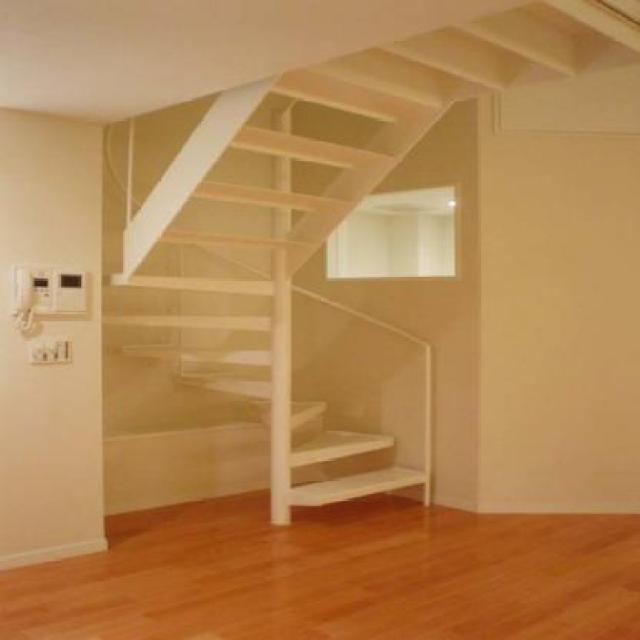stair: (101, 0, 638, 525)
